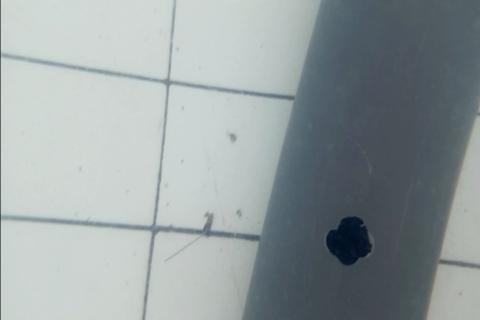kebocoran: (322, 212, 376, 268)
